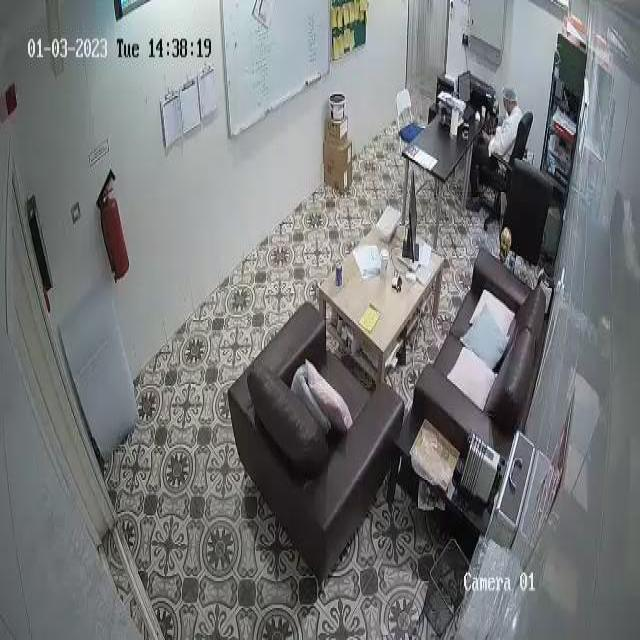hairnet: (499, 85, 517, 103)
